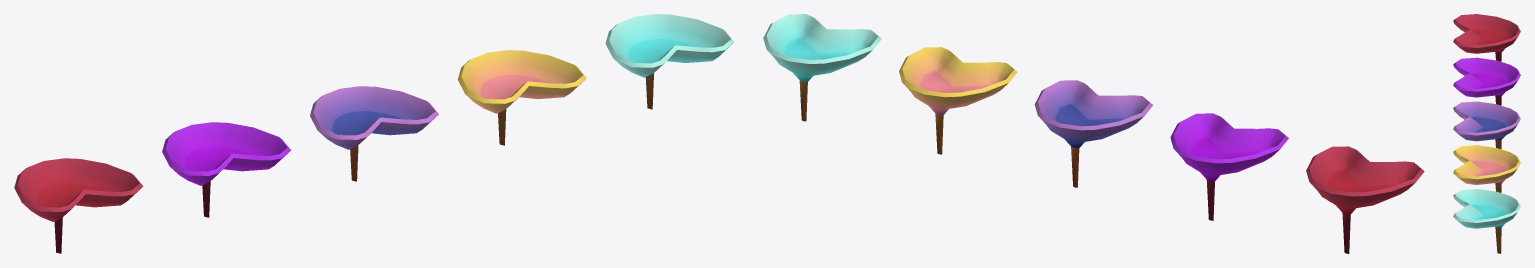
Rendered from Reef_Set6.glb.
3 renders of one model, left to right at view 1: azimuth 30°, elevation 25°; view 2: azimuth 150°, elevation 25°; view 3: azimuth 270°, elevation 25°, orthographic. The views are drawn at different scales.
Parts seen in each view (by area): view 1: F_CoralReef.001, F_CoralReef.004, F_CoralReef, F_CoralReef.002, F_CoralReef.003; view 2: F_CoralReef.001, F_CoralReef, F_CoralReef.002, F_CoralReef.003, F_CoralReef.004; view 3: F_CoralReef.003, F_CoralReef, F_CoralReef.004, F_CoralReef.001, F_CoralReef.002.
Part boxes in pixels (x1,y1,x2,y2): F_CoralReef.001: (310,86,438,181); F_CoralReef.004: (14,158,143,253); F_CoralReef: (457,50,586,145); F_CoralReef.002: (162,122,290,217); F_CoralReef.003: (605,14,734,109); F_CoralReef.001: (1034,80,1152,187); F_CoralReef: (899,47,1017,154); F_CoralReef.002: (1170,113,1288,220); F_CoralReef.003: (763,14,881,121); F_CoralReef.004: (1306,146,1424,253); F_CoralReef.003: (1453,189,1520,253); F_CoralReef: (1453,145,1520,192); F_CoralReef.004: (1453,14,1520,61); F_CoralReef.001: (1453,101,1520,148); F_CoralReef.002: (1453,57,1520,105).
Size of the model in its own units: 9.52 by 1.05 by 1.31.
Materials: 1 (1 with a texture image).
